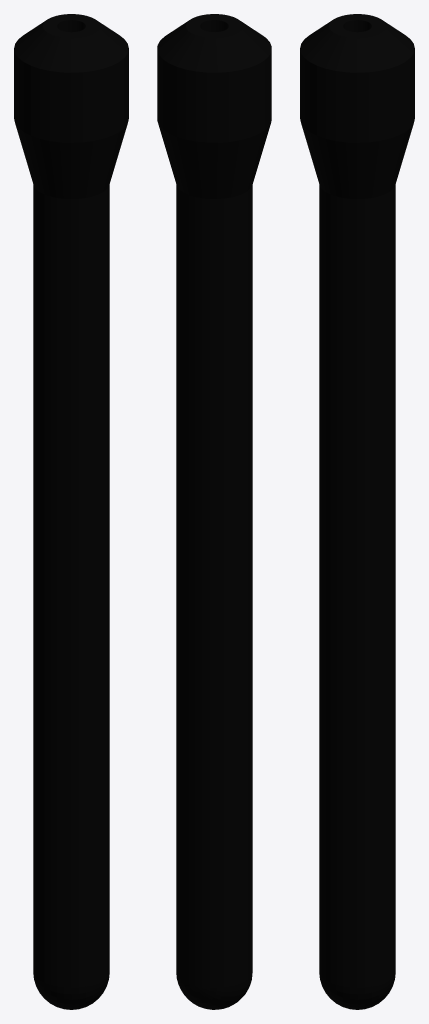
Rendered from TurretShooter.obj.
3 renders of one model, left to right at view 1: azimuth 90°, elevation 25°; view 2: azimuth 150°, elevation 25°; view 3: azimuth 270°, elevation 25°, orthographic.
Parts seen in each view (by area): view 1: Shooter_Cylinder; view 2: Shooter_Cylinder; view 3: Shooter_Cylinder.
Part boxes in pixels (x1,y1,x2,y2): Shooter_Cylinder: [14, 14, 128, 1009]; Shooter_Cylinder: [157, 14, 271, 1009]; Shooter_Cylinder: [300, 14, 414, 1009].
Bounding box in the file's own units: 0.1485 × 1.4 × 0.1485.
1 material, 1 textured.
